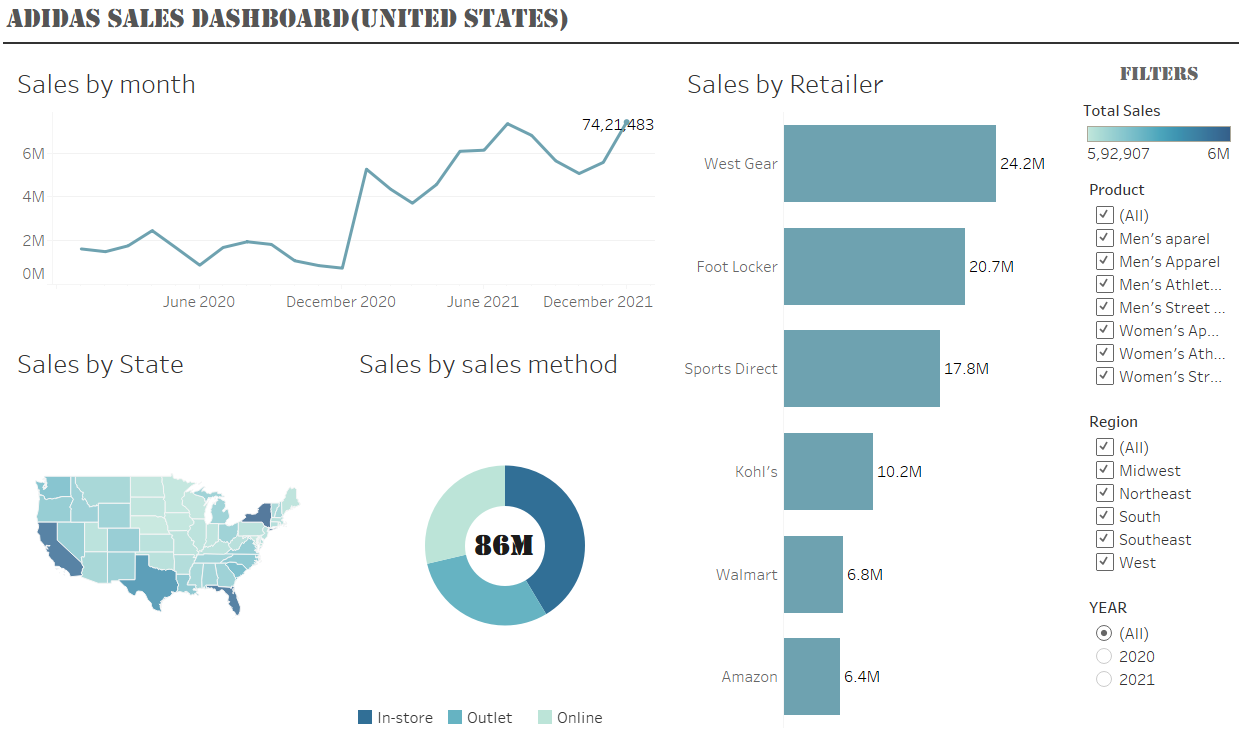

What the dashboard file says about the page in this screenshot:
{"tool":"tableau","page":{"name":"Dashboard 1","canvas":[1300,800],"ordinal":0},"visuals":[{"type":"text","box":[28,28,1244,40]},{"type":"blank","box":[28,68,1244,10]},{"type":"worksheet","title":"Sheet 1","mark":"Automatic","rows":["Total Sales"],"cols":["Invoice Date"],"box":[28,78,670,280]},{"type":"worksheet","title":"Sheet 3","mark":"Automatic","rows":["Retailer"],"cols":["Total Sales"],"box":[698,78,406,694]},{"type":"text","box":[1108,82,160,44]},{"type":"legend","title":"Sheet 2","param":"[federated.0wf80bd016np6k13xnimv0wqj7h8].[sum:Total Sales:qk]","box":[1108,126,160,73]},{"type":"filter","title":"Sheet 4","param":"[federated.0wf80bd016np6k13xnimv0wqj7h8].[none:Product:nk]","box":[1108,199,160,232]},{"type":"worksheet","title":"Sheet 2","mark":"Automatic","box":[28,358,342,414]},{"type":"worksheet","title":"Sheet 4","mark":"Pie","cols":["Calculation_1961599128867102721","Calculation_1961599128868204547"],"box":[380,368,308,365]},{"type":"filter","title":"Sheet 4","param":"[federated.0wf80bd016np6k13xnimv0wqj7h8].[none:Region:nk]","box":[1108,431,160,186]},{"type":"filter","title":"Sheet 4","param":"[federated.0wf80bd016np6k13xnimv0wqj7h8].[yr:Invoice Date:ok]","box":[1108,617,160,117]},{"type":"legend","title":"Sheet 4","param":"[federated.0wf80bd016np6k13xnimv0wqj7h8].[none:Sales Method:nk]","box":[380,733,308,29]}]}

Visuals, with their boxes on the page's 1300x800 design canvas (x1, y1, x2, y2). These are canvas units, not pixel positions in the 1242x738 screenshot, which may show the page scaled, cropped or inside an application window:
text: locate(28, 28, 1272, 68)
blank: locate(28, 68, 1272, 78)
"Sheet 1" worksheet: locate(28, 78, 698, 358)
"Sheet 3" worksheet: locate(698, 78, 1104, 772)
text: locate(1108, 82, 1268, 126)
"Sheet 2" legend: locate(1108, 126, 1268, 199)
"Sheet 4" filter: locate(1108, 199, 1268, 431)
"Sheet 2" worksheet: locate(28, 358, 370, 772)
"Sheet 4" worksheet (Pie marks): locate(380, 368, 688, 733)
"Sheet 4" filter: locate(1108, 431, 1268, 617)
"Sheet 4" filter: locate(1108, 617, 1268, 734)
"Sheet 4" legend: locate(380, 733, 688, 762)
